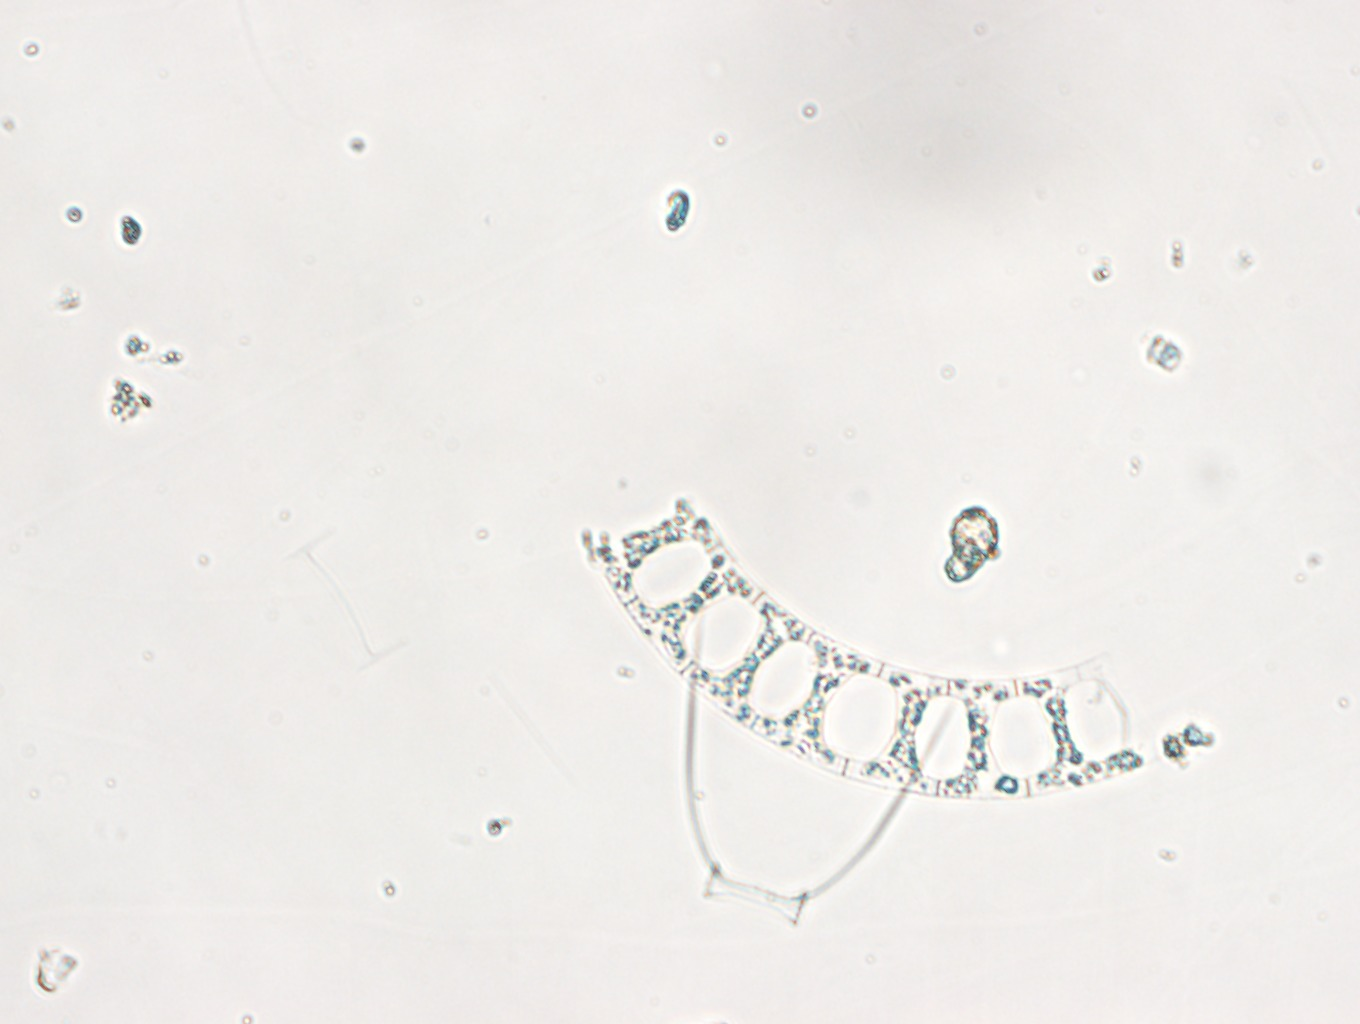chaetoceros: (684, 620, 953, 925)
eucampia: (582, 500, 1216, 801)
